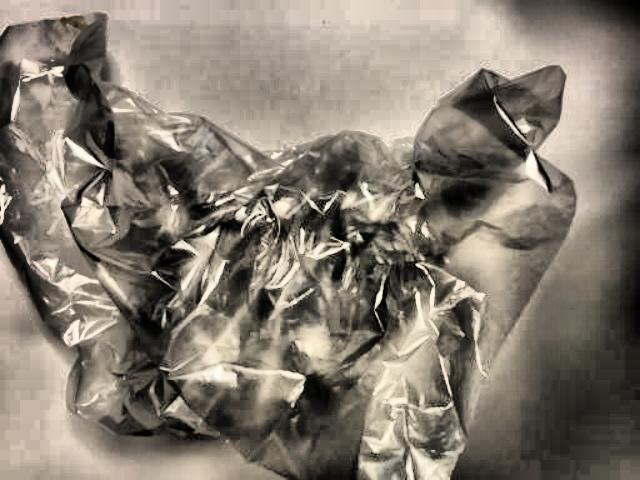Plastic: (0, 6, 640, 480)
